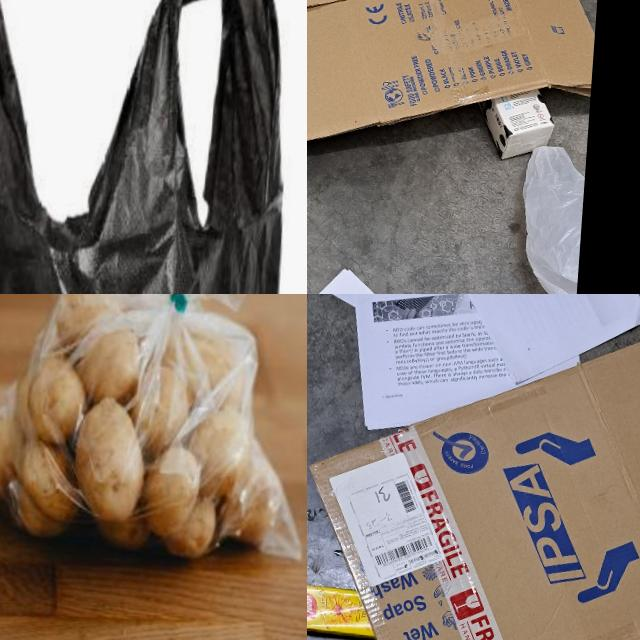caixinha: (482, 86, 556, 164), (307, 583, 378, 640)
papel: (307, 294, 640, 450), (307, 258, 577, 294)
papelão: (307, 310, 640, 640), (307, 0, 612, 161)
sacola plástica: (0, 0, 307, 294), (0, 294, 307, 582), (516, 144, 586, 294)
